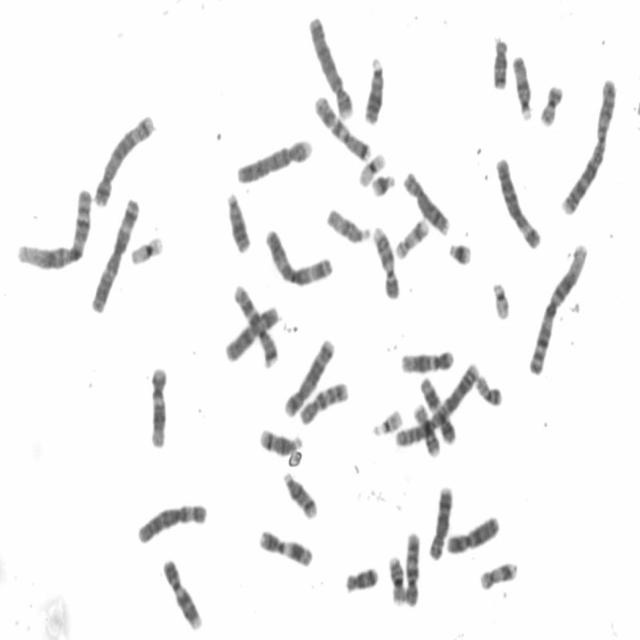A1: (525, 238, 589, 378), (14, 184, 93, 271)
A2: (558, 75, 618, 218), (391, 360, 480, 449)
A3: (88, 195, 141, 314), (262, 225, 335, 288)
B4: (307, 12, 354, 122), (234, 135, 314, 186)
B5: (92, 110, 156, 208), (281, 334, 337, 418)
C10: (296, 378, 349, 427), (402, 527, 422, 607)
C11: (417, 374, 456, 446), (256, 526, 314, 570)
C12: (146, 362, 168, 451), (397, 346, 455, 374)
C6: (494, 154, 542, 250), (134, 498, 208, 546)
C7: (230, 280, 279, 368), (311, 92, 372, 162)
C8: (400, 168, 451, 237), (426, 482, 454, 563)
C9: (160, 556, 204, 632), (370, 222, 400, 301)
D13: (361, 52, 386, 126), (224, 189, 252, 255)
D14: (280, 469, 318, 521), (257, 425, 303, 457)
D15: (324, 204, 372, 244), (511, 52, 534, 125)
E16: (411, 400, 441, 458), (386, 552, 406, 606)
E17: (393, 217, 429, 260), (477, 557, 518, 592)
E18: (489, 32, 510, 92), (342, 564, 379, 594)
F19: (128, 233, 165, 267), (356, 150, 386, 189)
F20: (537, 79, 565, 129), (474, 371, 504, 408)
G21: (446, 238, 474, 268), (369, 170, 396, 199)
G22: (369, 406, 404, 438), (489, 278, 512, 324)
X: (222, 302, 280, 364), (443, 512, 501, 556)
